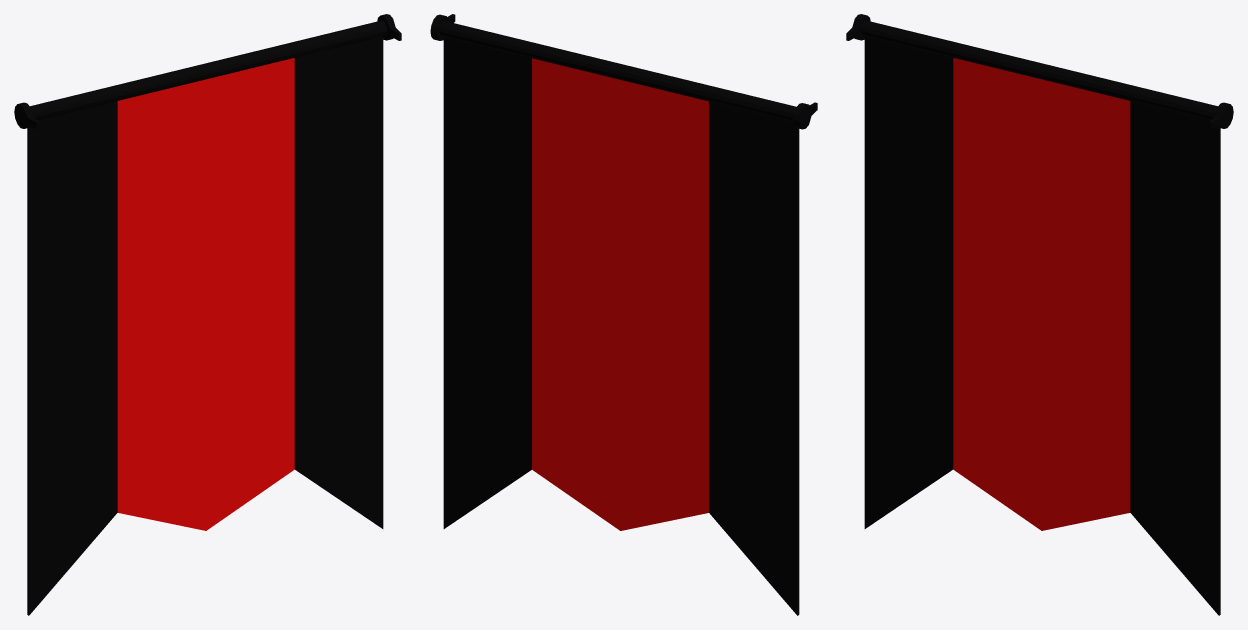
File: Banner_2.fbx
The picture shows the model from 3 angles, left to right: view 1: azimuth 30°, elevation 25°; view 2: azimuth 150°, elevation 25°; view 3: azimuth 330°, elevation 25°; orthographic projection.
Parts seen in each view (by area): view 1: Banner 2; view 2: Banner 2; view 3: Banner 2.
Boxes of the visible parts, x1,y1,x2,y2 form: Banner 2: [14, 14, 401, 615]; Banner 2: [430, 14, 817, 615]; Banner 2: [846, 14, 1233, 615].
Bounding box in the file's own units: 115 × 152 × 10.81.
